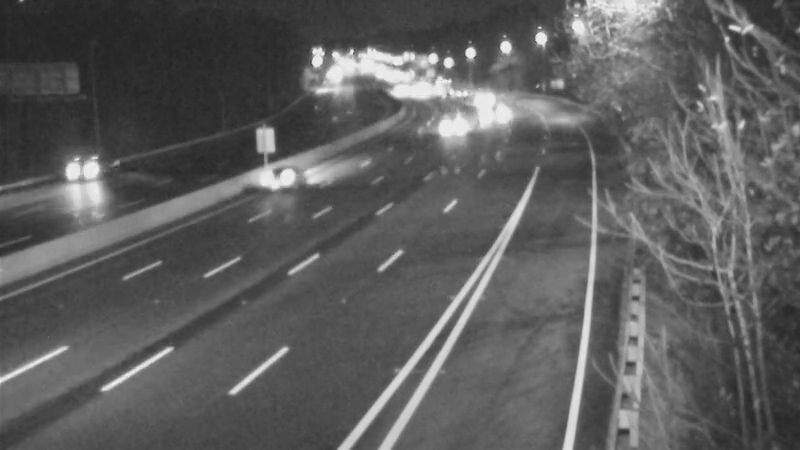vehicle: (240, 140, 320, 220), (34, 140, 114, 220), (375, 65, 425, 115), (450, 73, 500, 123), (470, 88, 520, 138), (424, 102, 474, 152)
